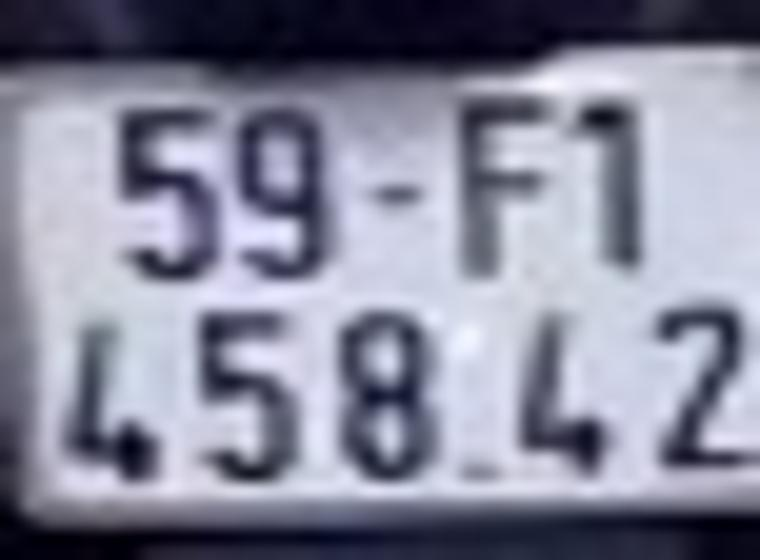-: (369, 174, 419, 215)
.: (456, 435, 503, 495)
1: (576, 91, 647, 283)
2: (648, 305, 758, 470)
4: (63, 315, 168, 492), (512, 319, 610, 479)
5: (116, 101, 227, 290), (196, 298, 294, 480)
8: (338, 304, 428, 479)
9: (242, 98, 334, 277)
F: (450, 85, 555, 285)
